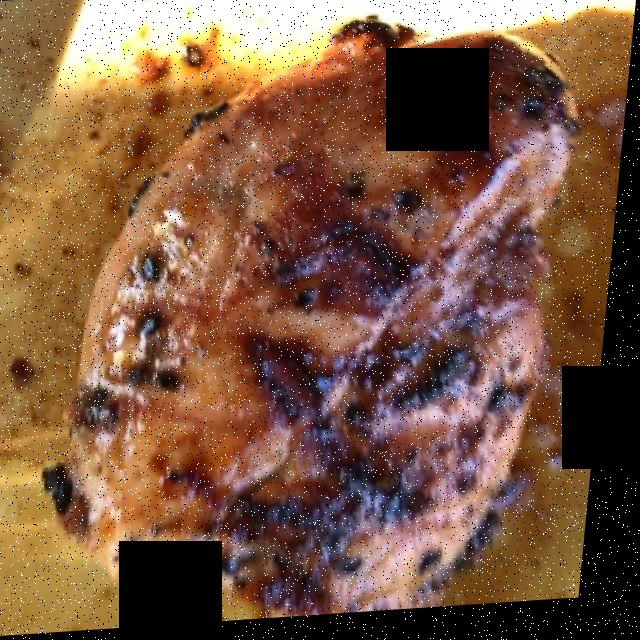chicken: (43, 13, 573, 619)
